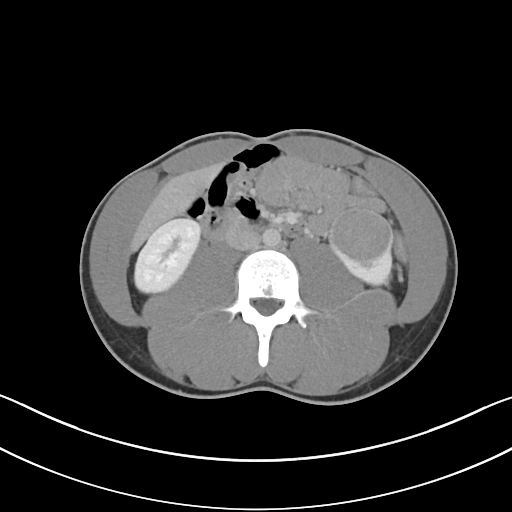Lesion: (331, 209, 394, 265)
